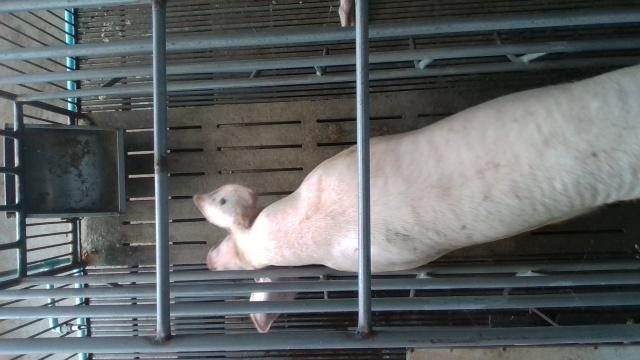sow-stand: (192, 62, 640, 333)
